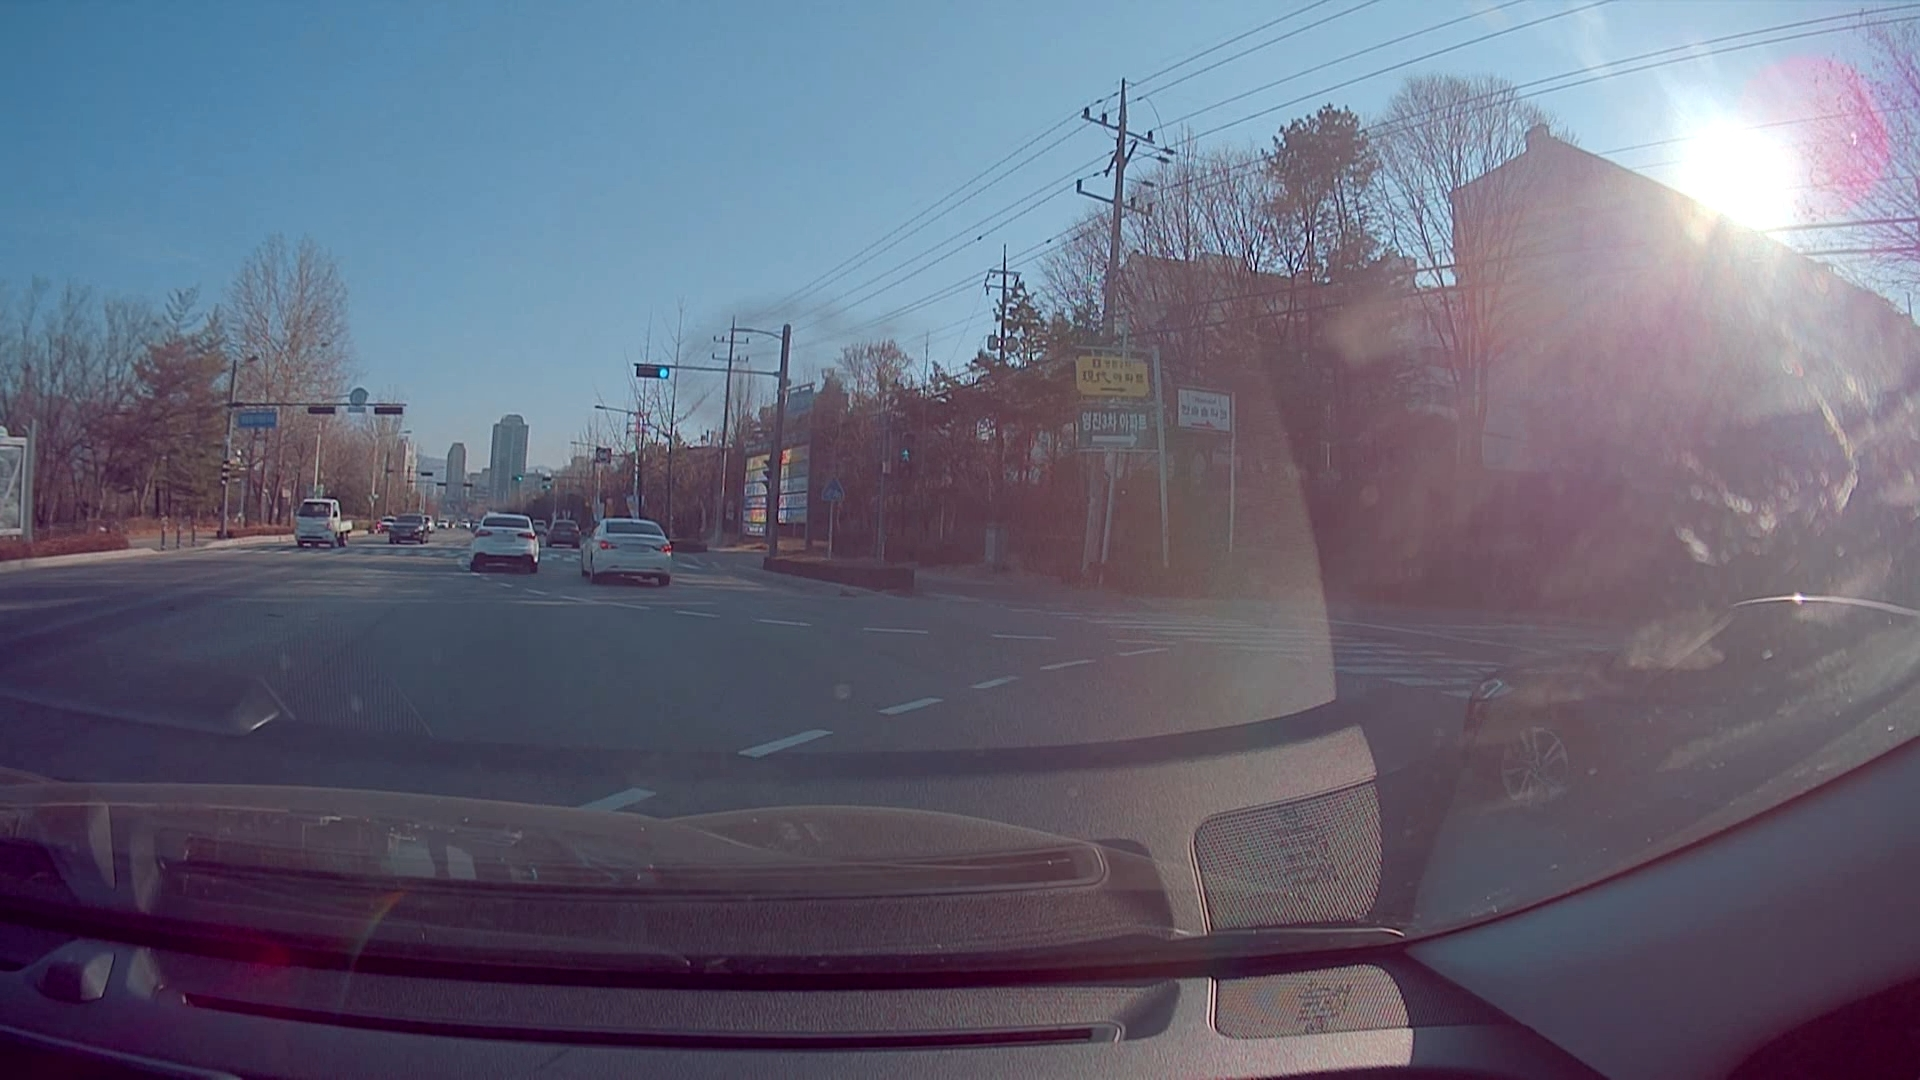trafficLight: (630, 363, 673, 381), (510, 472, 558, 483)
